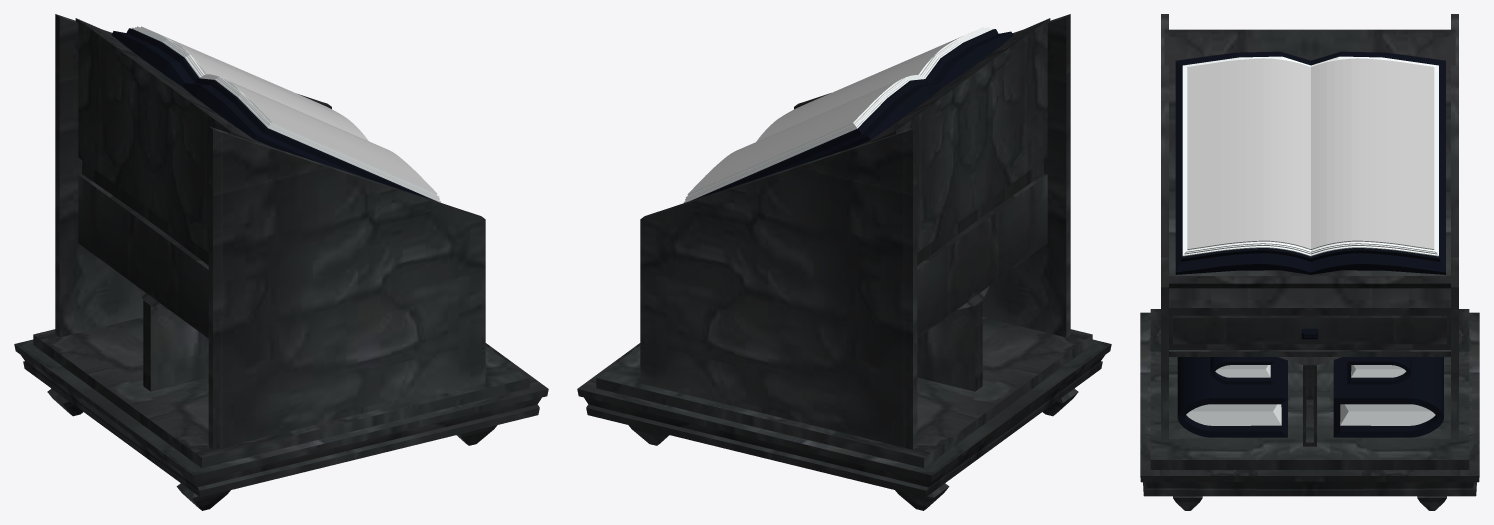
Rendered from DeskBooks.fbx.
3 views of the same model, side by side, from view 1: azimuth 30°, elevation 25°; view 2: azimuth 150°, elevation 25°; view 3: azimuth 270°, elevation 25° (orthographic). The views are drawn at different scales.
Parts seen in each view (by area): view 1: Cube, Cube.001; view 2: Cube, Cube.001; view 3: Cube.001, Cube.
Boxes of the visible parts, <box> form: Cube: <box>14,14,548,510</box>; Cube.001: <box>111,26,441,202</box>; Cube: <box>577,14,1111,510</box>; Cube.001: <box>683,27,1013,202</box>; Cube.001: <box>1175,51,1445,437</box>; Cube: <box>1140,14,1479,510</box>.
Size of the model in its own units: 127 by 134 by 111.
